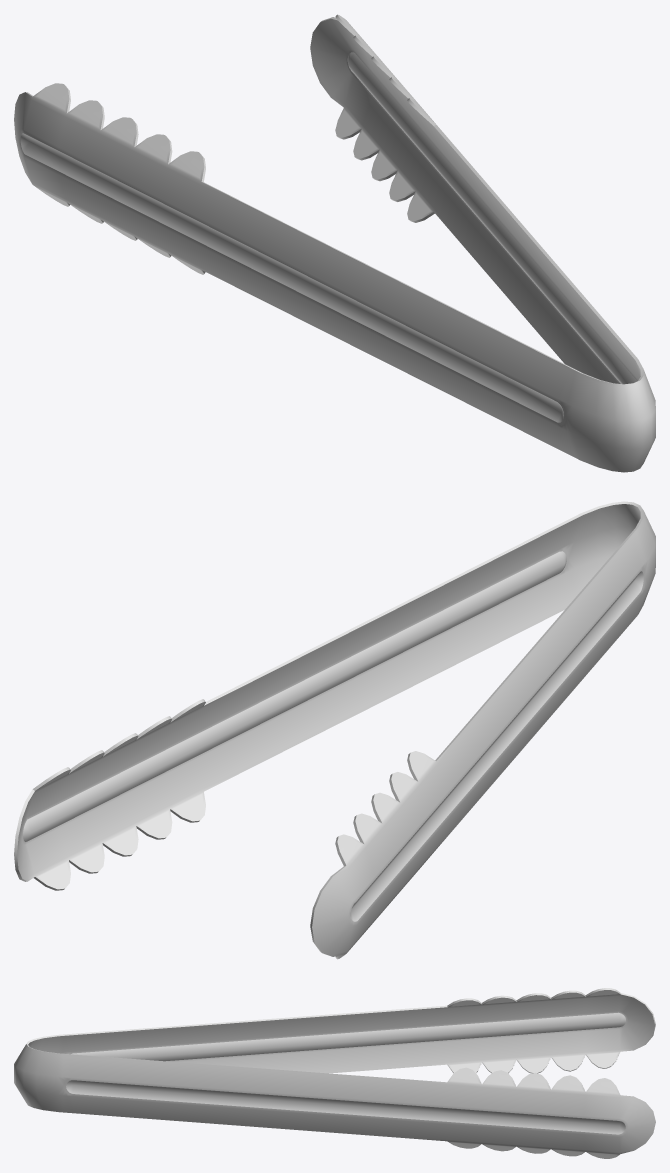
Rendered from tongs.glb.
3 views of the same model, one above another, from view 1: azimuth 30°, elevation 25°; view 2: azimuth 150°, elevation 25°; view 3: azimuth 270°, elevation 25° (orthographic). The views are drawn at different scales.
Visible parts, largest first — view 1: 004_Kitchen Tools_Ultensils_Tongs; view 2: 004_Kitchen Tools_Ultensils_Tongs; view 3: 004_Kitchen Tools_Ultensils_Tongs.
Boxes of the visible parts, x1,y1,x2,y2 form: 004_Kitchen Tools_Ultensils_Tongs: [14, 14, 655, 472]; 004_Kitchen Tools_Ultensils_Tongs: [14, 501, 655, 959]; 004_Kitchen Tools_Ultensils_Tongs: [14, 988, 655, 1158].
Size of the model in its own units: 0.0841 by 0.0293 by 0.21.
1 material, 1 textured.
